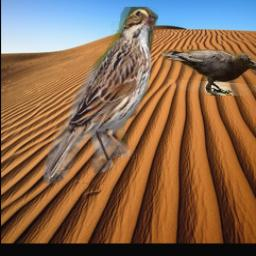Crow: (161, 49, 256, 96)
Sparrow: (44, 8, 158, 185)
